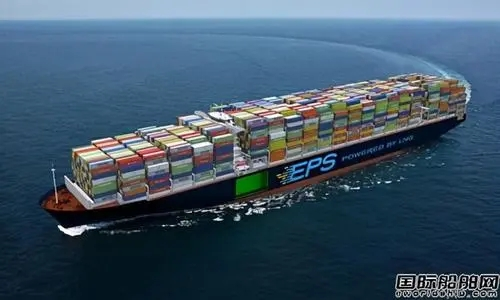Cargoship: (32, 70, 468, 230)
